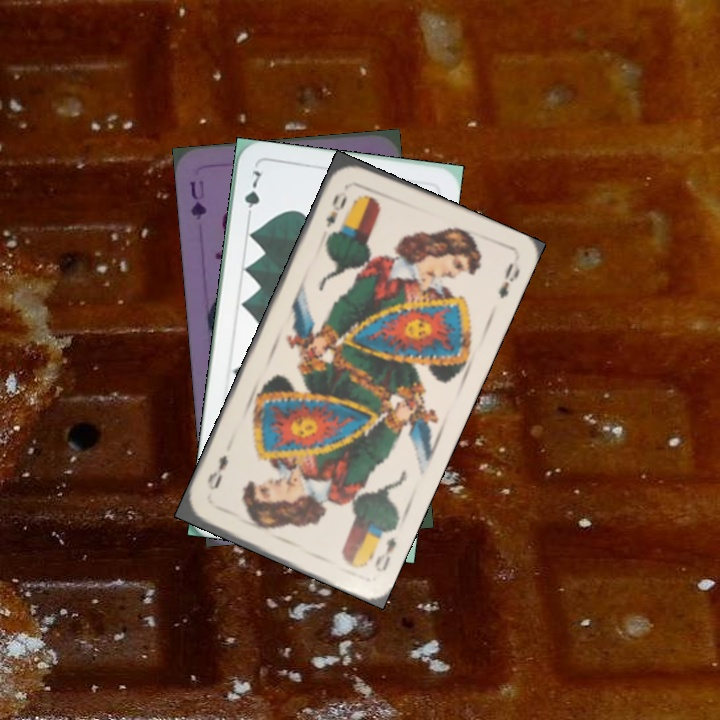EO: (370, 533, 399, 575), (322, 190, 350, 231)
G7: (240, 166, 264, 224)
GU: (185, 176, 210, 222)
